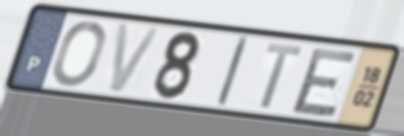8: (151, 29, 203, 102)
E: (288, 46, 361, 119)
I: (213, 34, 252, 110)
O: (49, 19, 109, 89)
T: (257, 40, 306, 112)
V: (107, 20, 165, 95)
